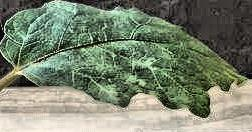HEALTHY: (1, 0, 252, 132)
